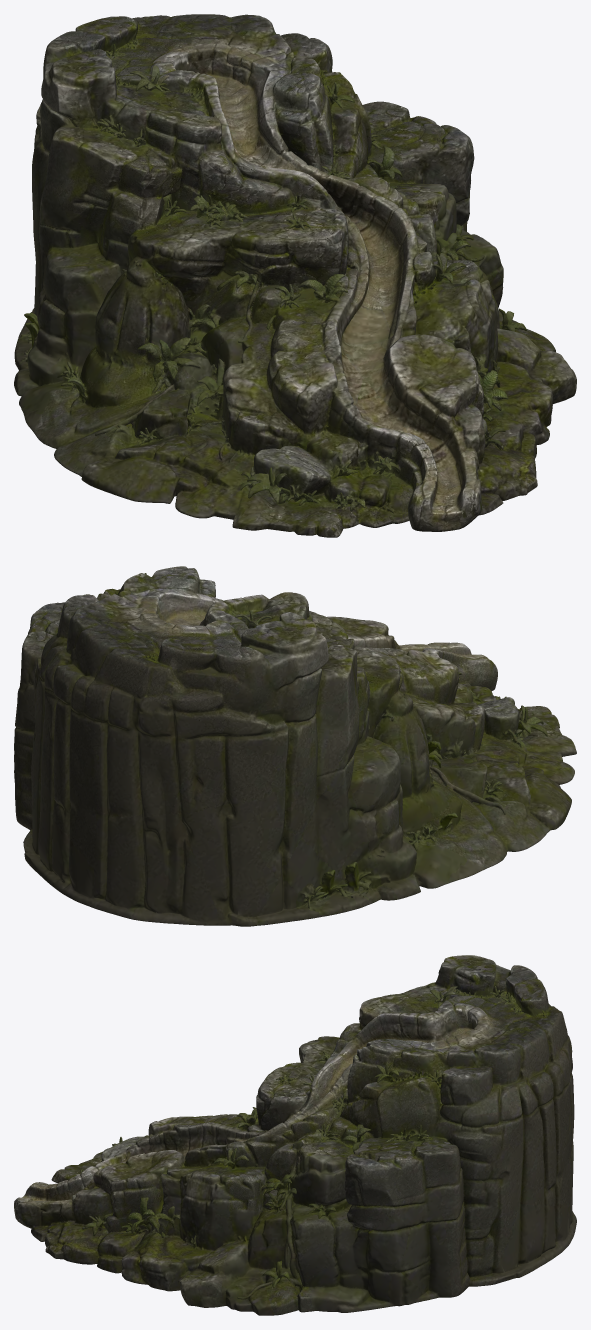
The model's file is Meshy_AI_waterfall_source_rock_0823035047_image-to-3d-texture.glb.
3 views of the same model, one above another, from view 1: azimuth 30°, elevation 25°; view 2: azimuth 150°, elevation 25°; view 3: azimuth 270°, elevation 25° (orthographic). The views are drawn at different scales.
Visible parts, largest first — view 1: mesh_node; view 2: mesh_node; view 3: mesh_node.
Boxes of the visible parts, x1=… form: mesh_node: x1=14, y1=14, x2=576, y2=537; mesh_node: x1=14, y1=566, x2=576, y2=926; mesh_node: x1=14, y1=955, x2=576, y2=1315.
Size of the model in its own units: 1.5 by 0.8327 by 1.9.
Materials: 1 (1 with a texture image).
